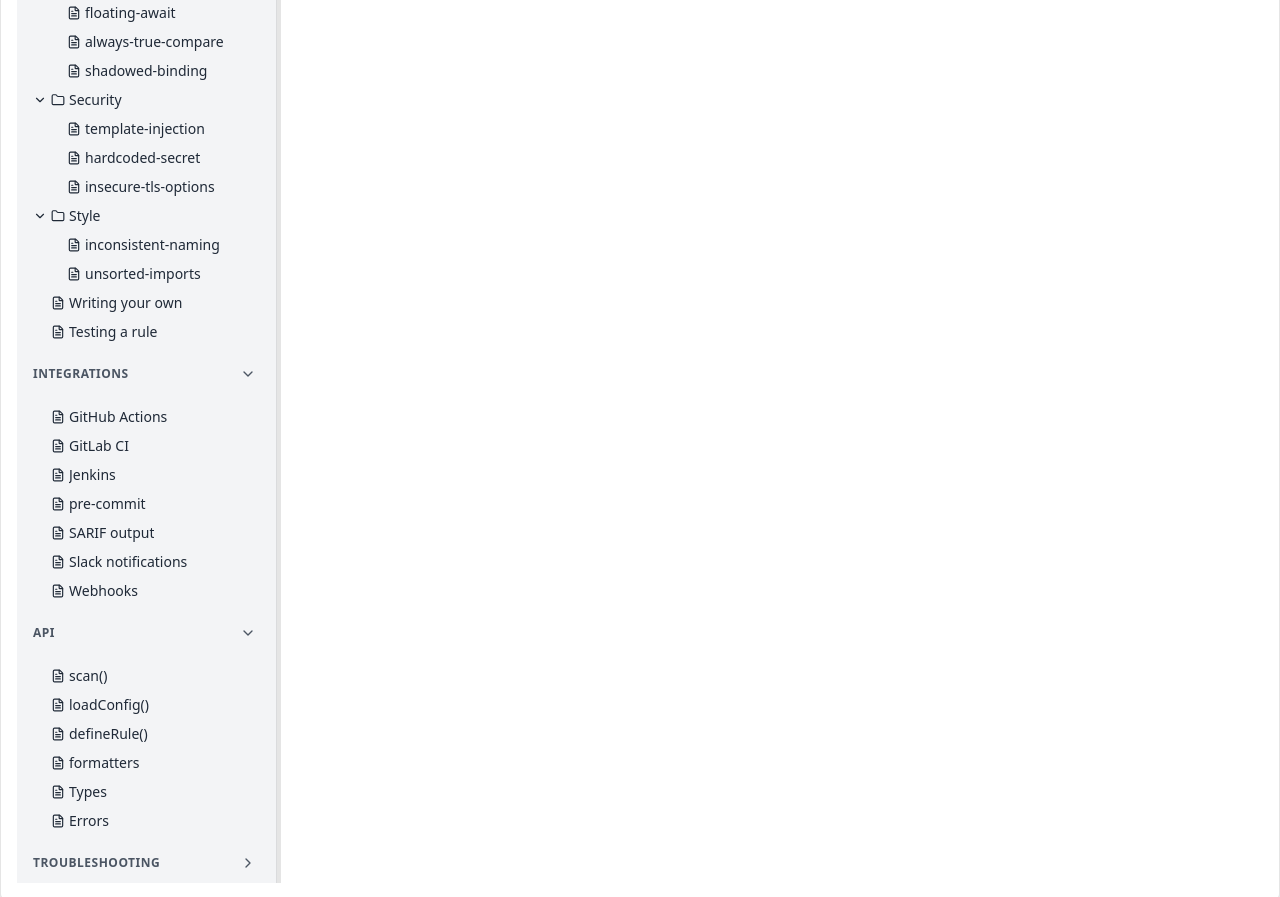
Test: Nav sidebar pattern › folds a section to its own title bar and back
(page scrolled)
expect the text "Troubleshooting" is shown: met, box left=33, top=854, right=160, bottom=872
Click the button named "Expand Troubleshooting panel". click: (248,863)
box: left=236, top=851, right=260, bottom=875
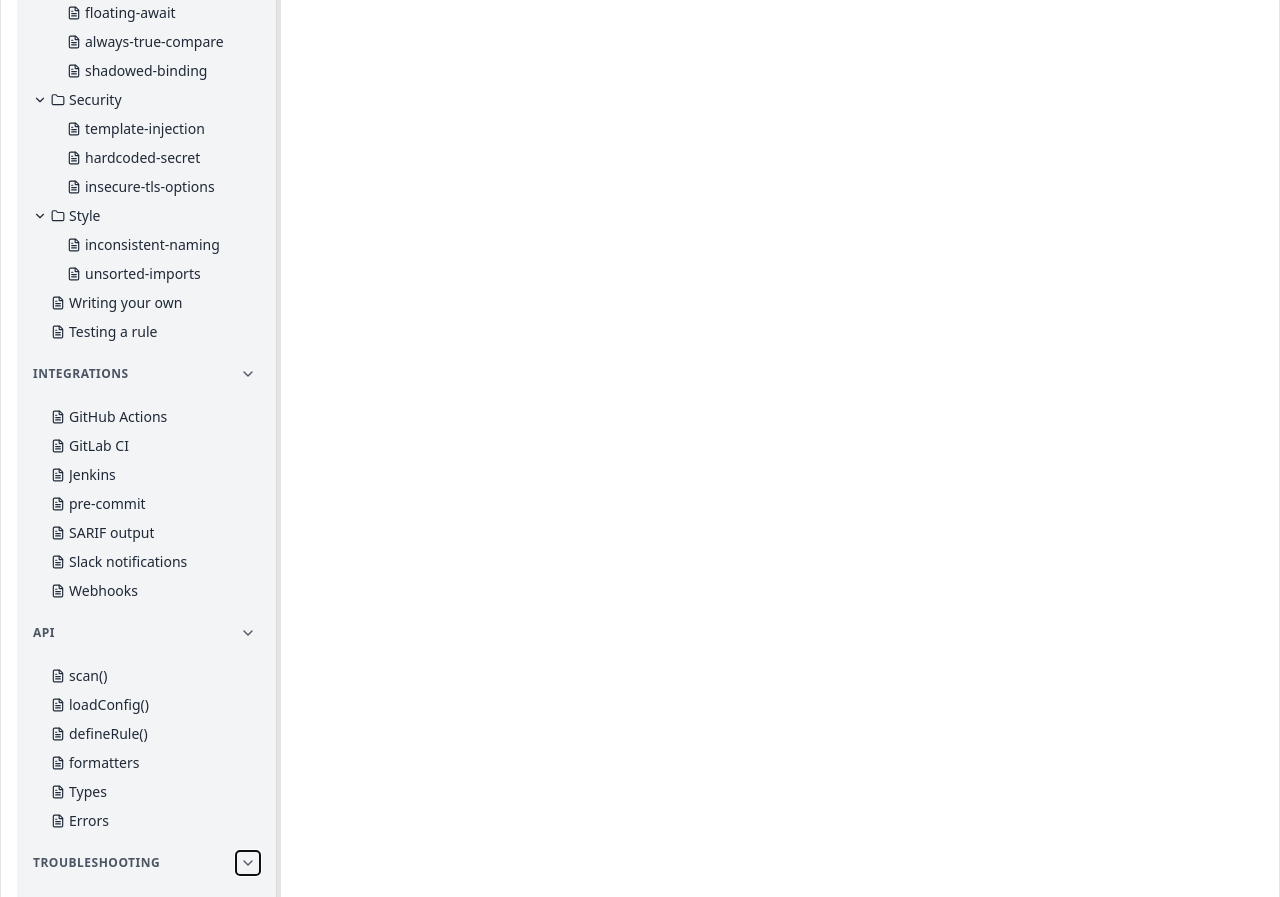
expect the button named "Collapse Troubleshooting panel" is shown: met, box left=236, top=851, right=260, bottom=875
